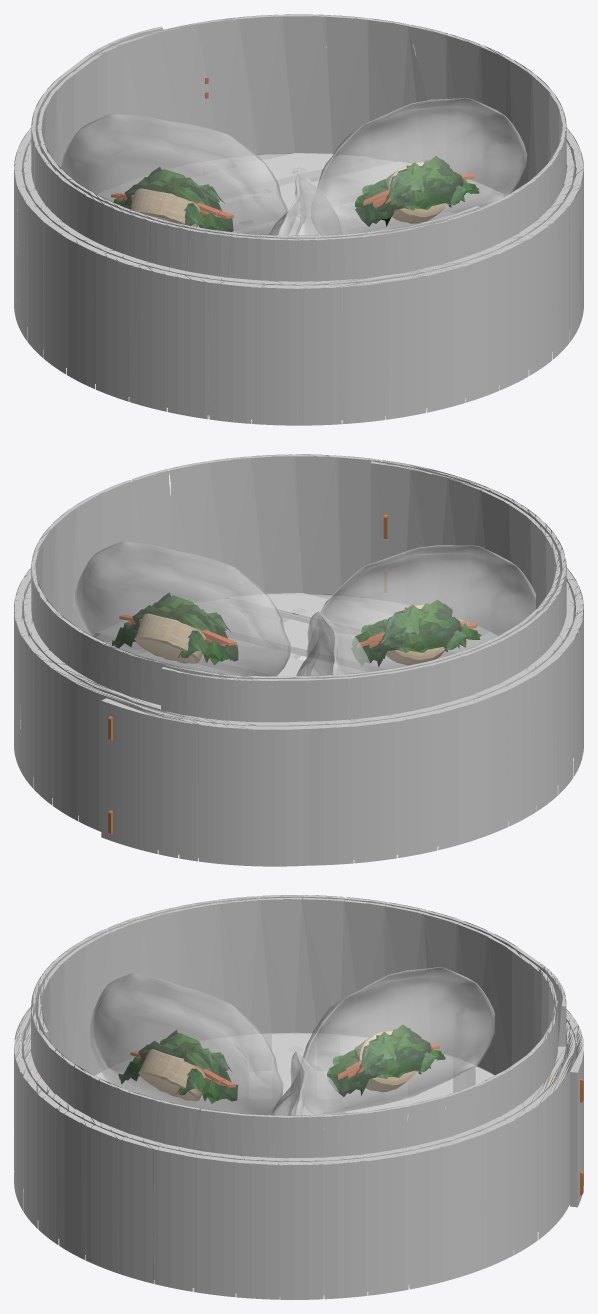
The model's file is DumplingFlat.fbx.
The picture shows the model from 3 angles, top to bottom: view 1: azimuth 30°, elevation 25°; view 2: azimuth 150°, elevation 25°; view 3: azimuth 270°, elevation 25°; orthographic projection.
Parts seen in each view (by area): view 1: Object.1, Mball.001, Mball.002, Object.002, Mball.003, Plane.004, Cylinder.001, Plane.002, Plane.005, Plane, Plane.001, Cylinder; view 2: Object.1, Mball.001, Mball.003, Object.002, Mball.002, Cylinder, Plane.011, Plane.009, Plane.002, Plane, Plane.008, Cylinder.002; view 3: Object.1, Mball.002, Mball.003, Object.002, Mball.001, Cylinder.002, Plane.007, Plane.005, Plane.009, Plane.008, Plane.001, Cylinder.001.
Boxes of the visible parts, x1,y1,x2,y2 form: Object.1: [14, 14, 583, 425]; Mball.001: [311, 98, 527, 234]; Mball.002: [60, 113, 287, 235]; Object.002: [99, 153, 502, 235]; Mball.003: [268, 173, 342, 236]; Plane.004: [383, 164, 460, 210]; Cylinder.001: [130, 188, 200, 226]; Plane.002: [375, 156, 463, 214]; Plane.005: [124, 169, 208, 206]; Plane: [355, 178, 405, 226]; Plane.001: [184, 197, 233, 231]; Cylinder: [387, 162, 447, 223]; Object.1: [14, 454, 583, 866]; Mball.001: [74, 541, 290, 676]; Mball.003: [309, 545, 535, 674]; Object.002: [96, 594, 496, 676]; Mball.002: [296, 611, 373, 676]; Cylinder: [134, 613, 205, 663]; Plane.011: [376, 608, 458, 652]; Plane.009: [370, 600, 461, 654]; Plane.002: [132, 595, 213, 632]; Plane: [178, 625, 238, 664]; Plane.008: [351, 619, 399, 666]; Cylinder.002: [386, 605, 445, 665]; Object.1: [14, 895, 583, 1299]; Mball.002: [299, 967, 494, 1114]; Mball.003: [89, 973, 283, 1114]; Object.002: [95, 1032, 494, 1121]; Mball.001: [271, 1051, 345, 1129]; Cylinder.002: [138, 1049, 206, 1101]; Plane.007: [358, 1032, 429, 1078]; Plane.005: [348, 1024, 431, 1084]; Plane.009: [138, 1033, 224, 1090]; Plane.008: [176, 1064, 238, 1103]; Plane.001: [327, 1048, 379, 1096]; Cylinder.001: [354, 1030, 416, 1092].
Size of the model in its own units: 213 by 73.22 by 216.
